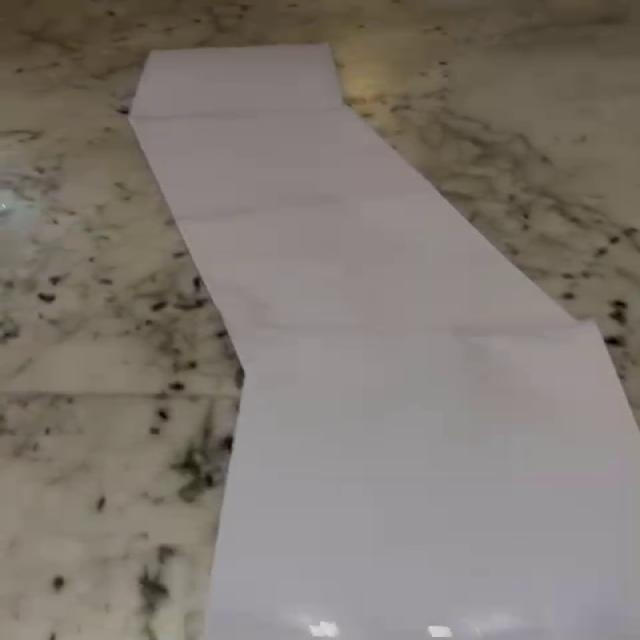road: (129, 45, 637, 640)
